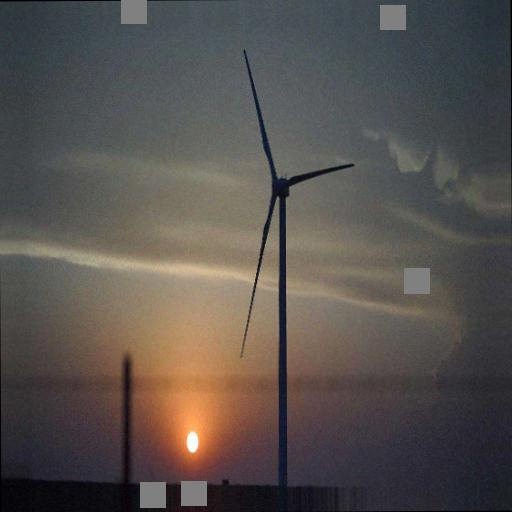wind turbine: (237, 49, 355, 487)
